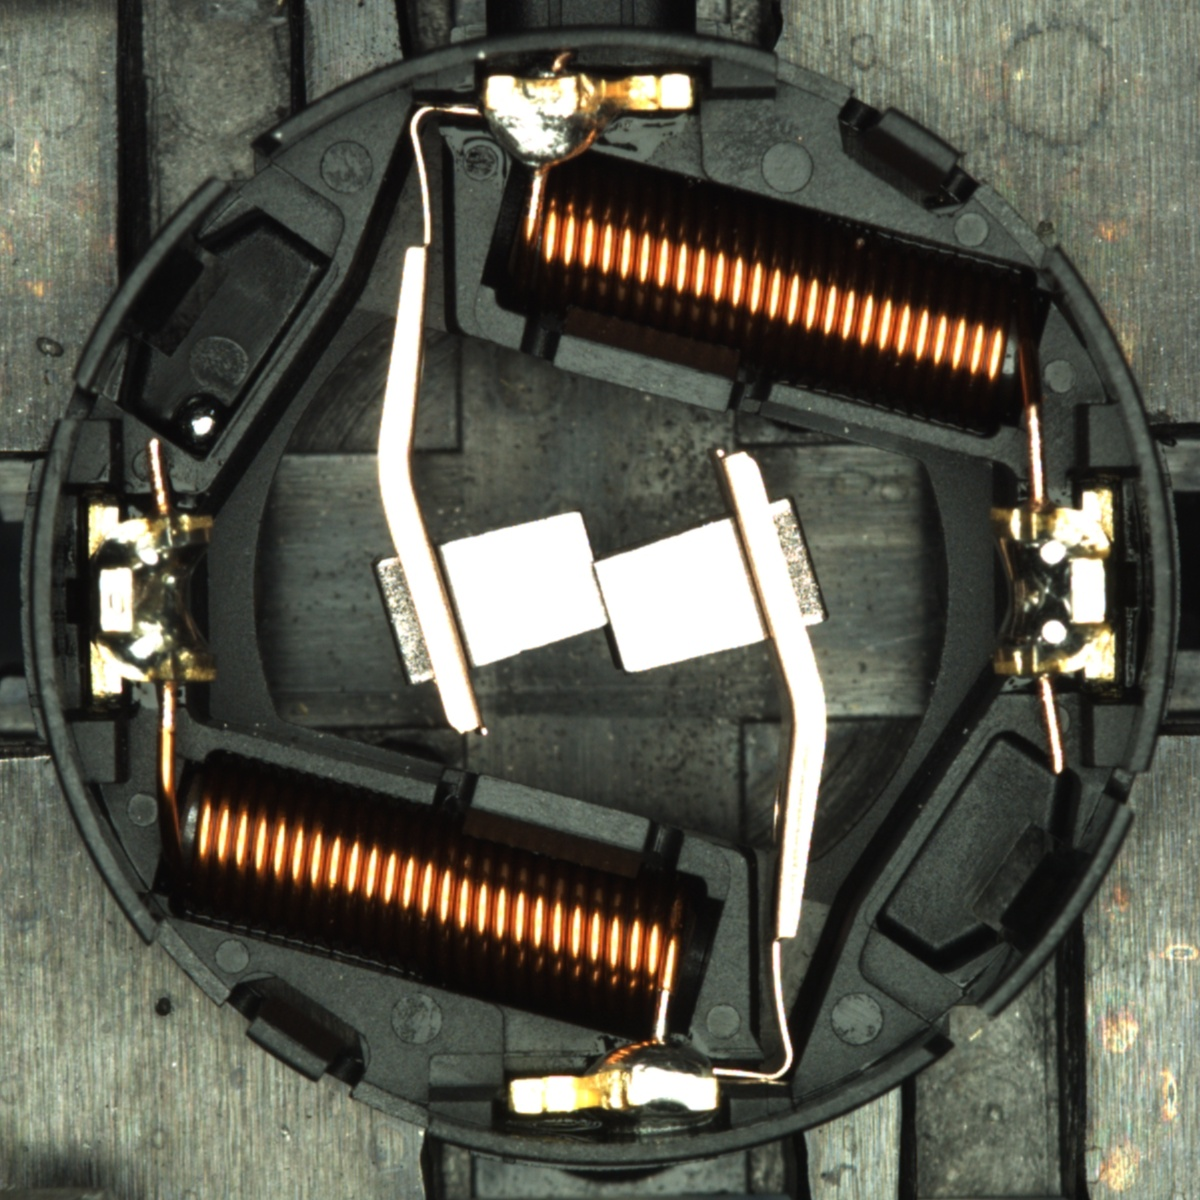1: (254, 31, 484, 255), (712, 929, 942, 1153)
2: (712, 31, 942, 255), (254, 929, 484, 1153)
3: (942, 704, 1171, 929)
4: (254, 255, 484, 480), (712, 704, 942, 929)
5: (484, 143, 712, 368), (484, 816, 712, 1041)
6: (712, 255, 942, 480), (254, 704, 484, 929)
7: (942, 255, 1171, 480), (25, 704, 254, 929)
cacbon: (400, 498, 796, 686)
chau_dien: (81, 498, 222, 699), (984, 489, 1122, 687)
hat_chi: (173, 392, 229, 449)
tay_choi: (482, 73, 698, 175), (509, 1029, 720, 1120)
thanh_de: (954, 788, 1142, 1033), (62, 165, 245, 402)
